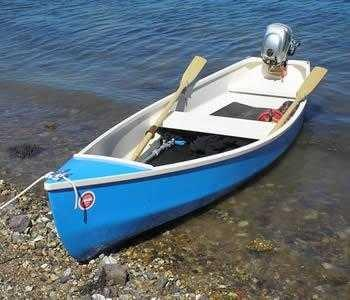kayak: (46, 20, 315, 264)
